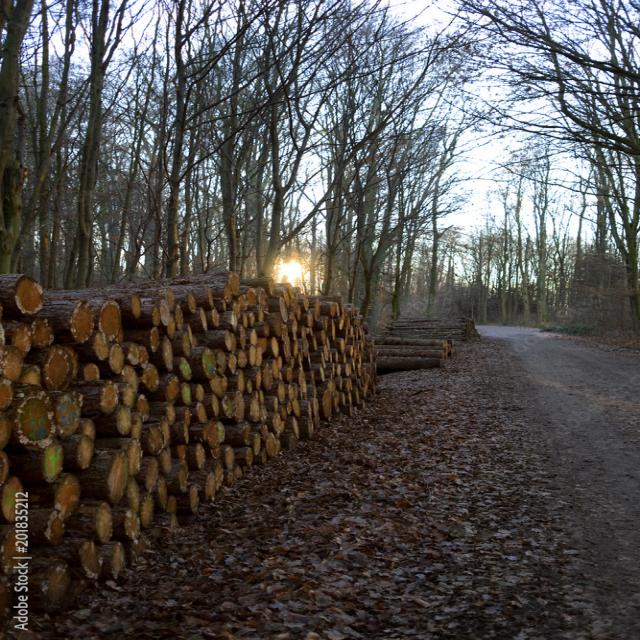Pothole: (386, 376, 640, 640)
